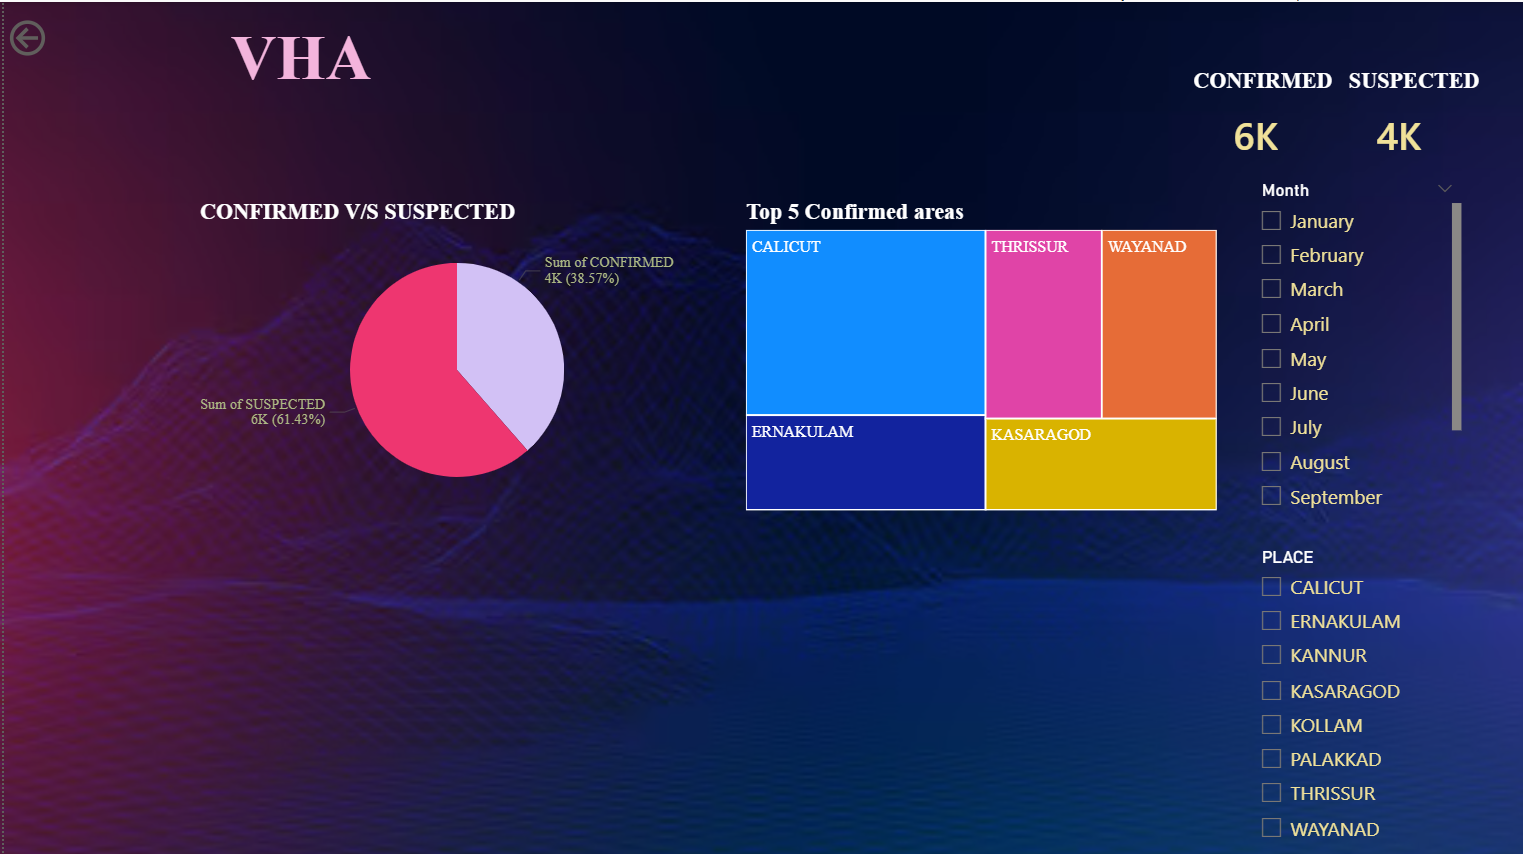

The page's visual inventory and layout, read from the dashboard file:
{"tool":"powerbi","page":{"name":"VHA","canvas":[1280,720],"ordinal":3},"visuals":[{"type":"cardVisual","fields":{"Data":["Sum(DISEASES.SUSPECTED)","Sum(DISEASES.CONFIRMED)"]},"box":[1004.7,30.2,267.4,161.6],"z":0},{"type":"actionButton","box":[0,10.5,100,39.5],"z":1},{"type":"textbox","box":[991.9,50,134.9,37.2],"z":2},{"type":"textbox","box":[1118.6,50,134.9,37.2],"z":3},{"type":"textbox","box":[100,11.6,300,77.9],"z":4},{"type":"slicer","fields":{"Values":["DISEASES.MONTH.Variation.Date Hierarchy.Month"]},"box":[1045.4,145.3,186,287.2],"z":5},{"type":"slicer","fields":{"Values":["DISEASES.PLACE"]},"box":[1045.4,453.5,186,266.3],"z":6},{"type":"treemap","title":"Top 5 Confirmed areas","fields":{"Group":["DISEASES.PLACE"],"Values":["Sum(DISEASES.CONFIRMED)"]},"box":[619.8,166.3,405.8,266.3],"z":7},{"type":"pieChart","title":"CONFIRMED V/S SUSPECTED","fields":{"Y":["Sum(DISEASES.CONFIRMED)","Sum(DISEASES.SUSPECTED)"]},"box":[159.3,166.3,443,266.3],"z":8}]}

Visuals, with their boxes in screenshot pixels (x1, y1, x2, y2), scaled from the page's 1280x720 canvas onto the 1523x854 screenshot:
cardVisual - Sum(DISEASES.SUSPECTED) x Sum(DISEASES.CONFIRMED): region(1195, 36, 1514, 227)
actionButton: region(0, 12, 119, 59)
textbox: region(1180, 59, 1341, 103)
textbox: region(1331, 59, 1491, 103)
textbox: region(119, 14, 476, 106)
slicer - DISEASES.MONTH.Variation.Date Hierarchy.Month: region(1244, 172, 1465, 513)
slicer - DISEASES.PLACE: region(1244, 538, 1465, 853)
"Top 5 Confirmed areas" treemap: region(737, 197, 1220, 513)
"CONFIRMED V/S SUSPECTED" pieChart: region(190, 197, 717, 513)
